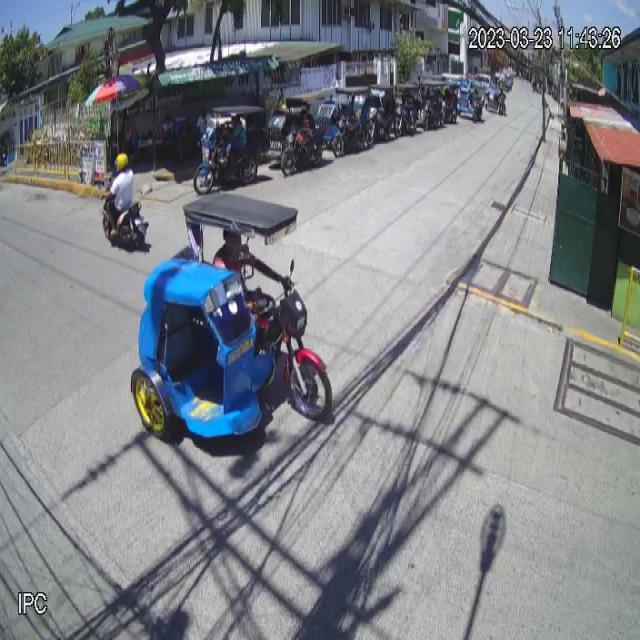Motorcycle: (99, 187, 148, 253)
Tricycle: (130, 192, 332, 448)
